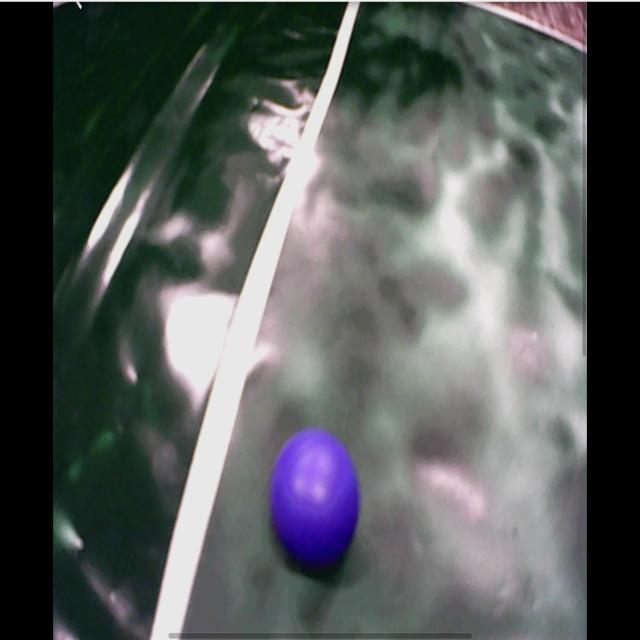ball: (269, 432, 362, 568)
